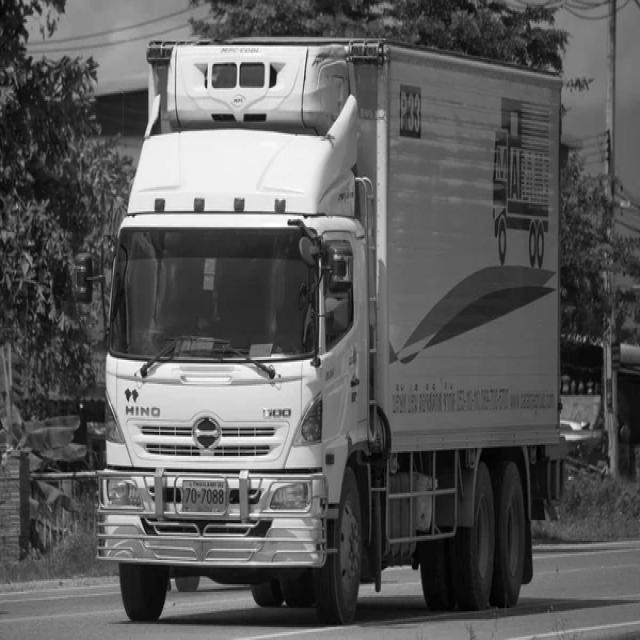Truck: (98, 38, 568, 625)
